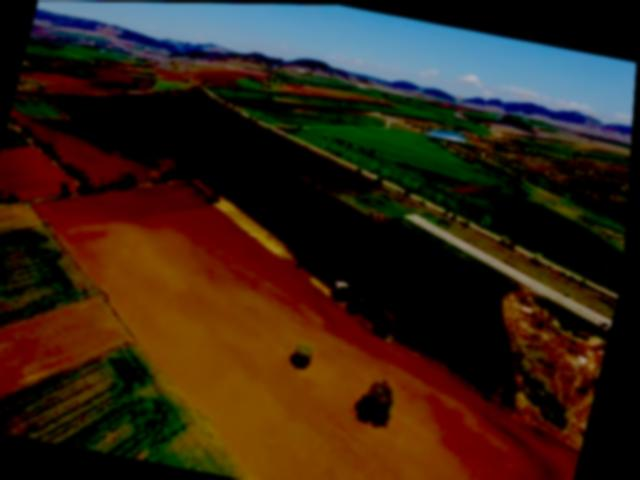uav: (334, 271, 358, 293)
